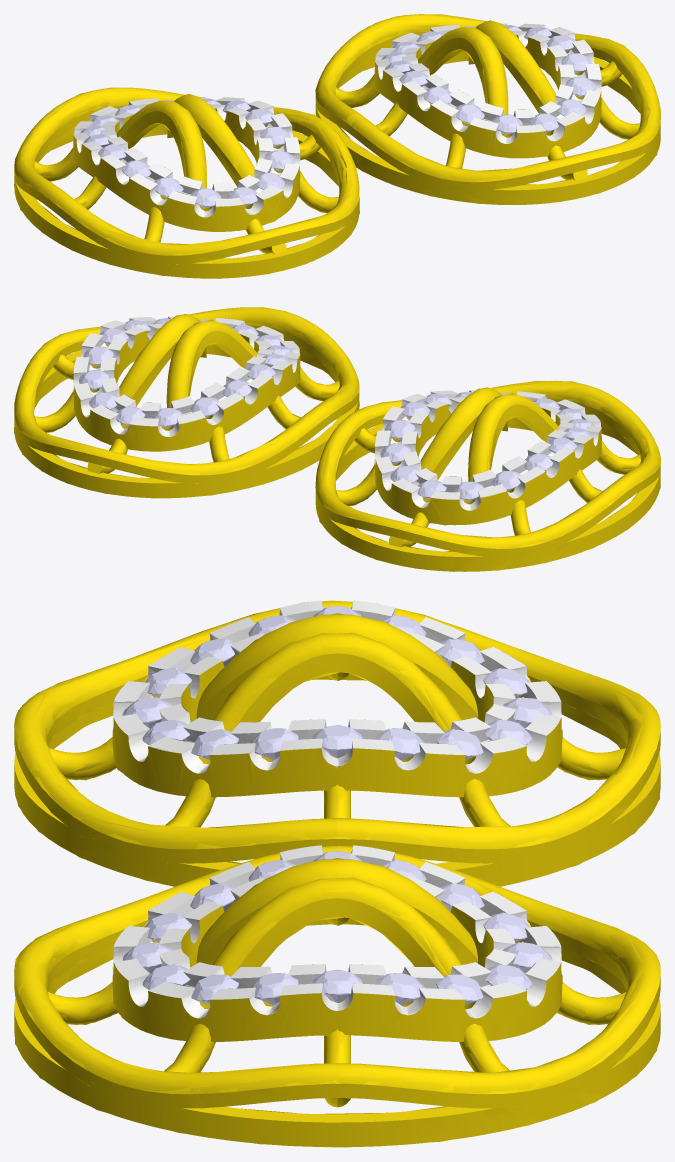
3 renders of one model, top to bottom at view 1: azimuth 30°, elevation 25°; view 2: azimuth 150°, elevation 25°; view 3: azimuth 270°, elevation 25°, orthographic. The views are drawn at different scales.
Parts seen in each view (by area): view 1: highPolyMesh, lowPolyMesh; view 2: highPolyMesh, lowPolyMesh; view 3: highPolyMesh, lowPolyMesh.
Boxes of the visible parts, box(x1,y1,x2,y2) form: highPolyMesh: box(14, 14, 660, 278); lowPolyMesh: box(14, 14, 660, 278); highPolyMesh: box(14, 307, 660, 571); lowPolyMesh: box(14, 307, 660, 571); highPolyMesh: box(14, 600, 660, 1147); lowPolyMesh: box(14, 600, 660, 1147).
Size of the model in its own units: 0.029 by 0.00457 by 0.0166.
